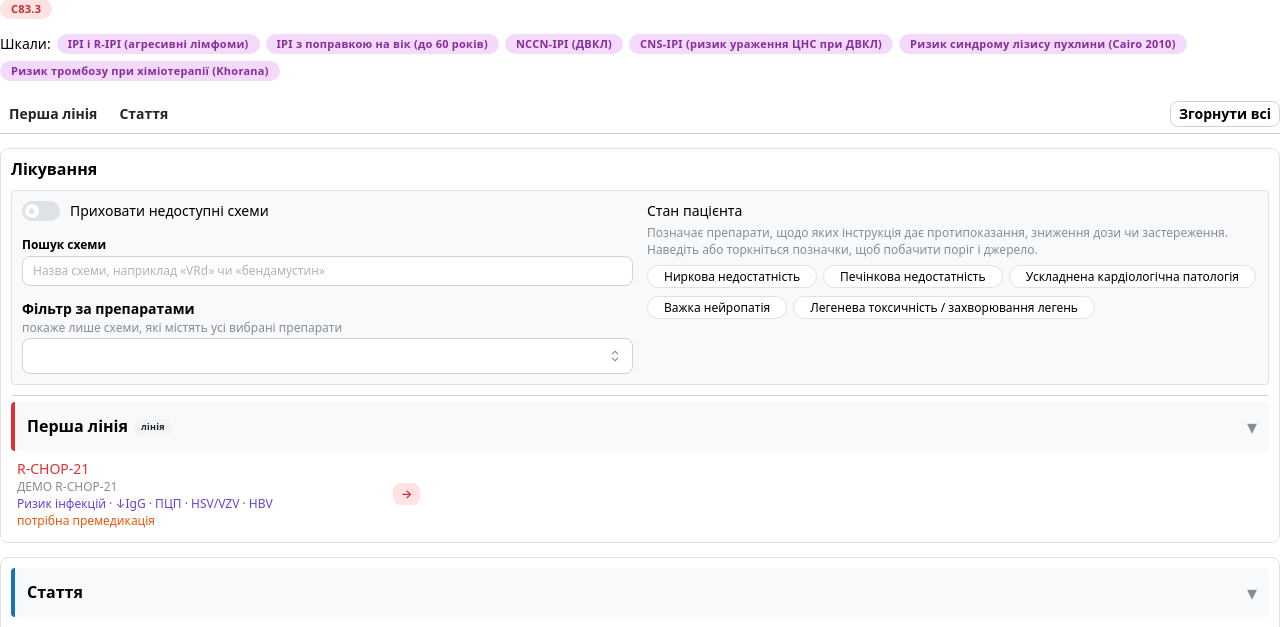
Test: DiseaseDetailPage › folds the article like a line
The image size is (1280, 627).
Click the button "Стаття ▾" at [55, 592], box [11, 568, 1269, 617]
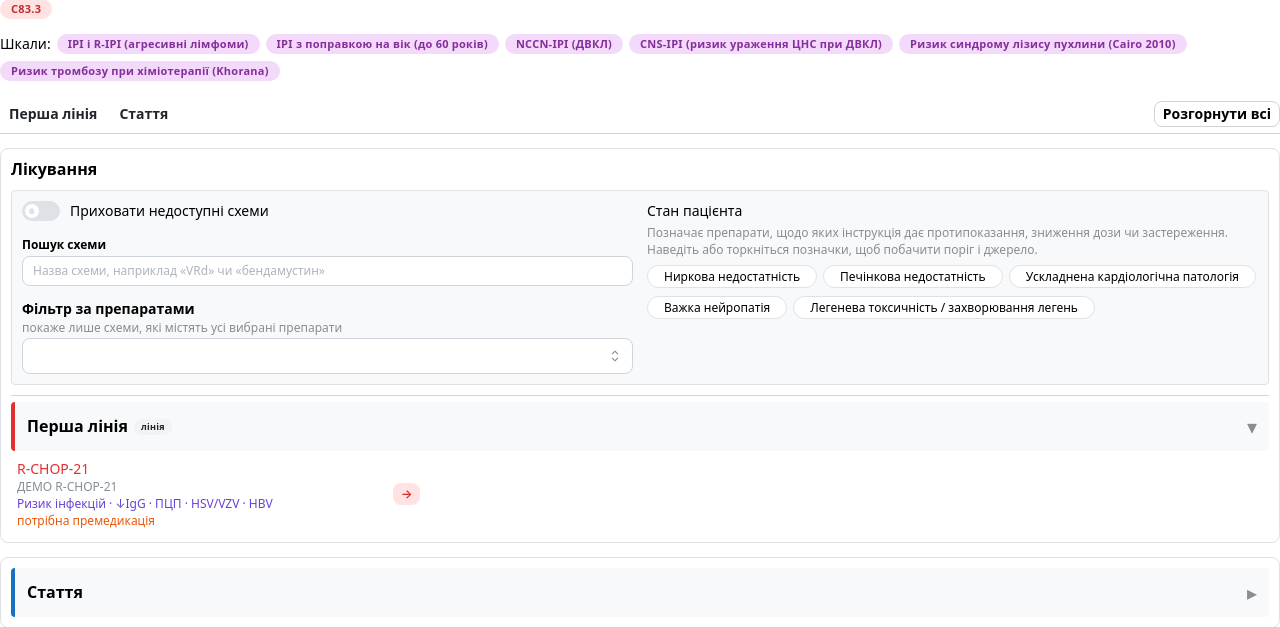
Click the button "Стаття ▸" at [55, 592], box [11, 568, 1269, 617]
(page scrolled)
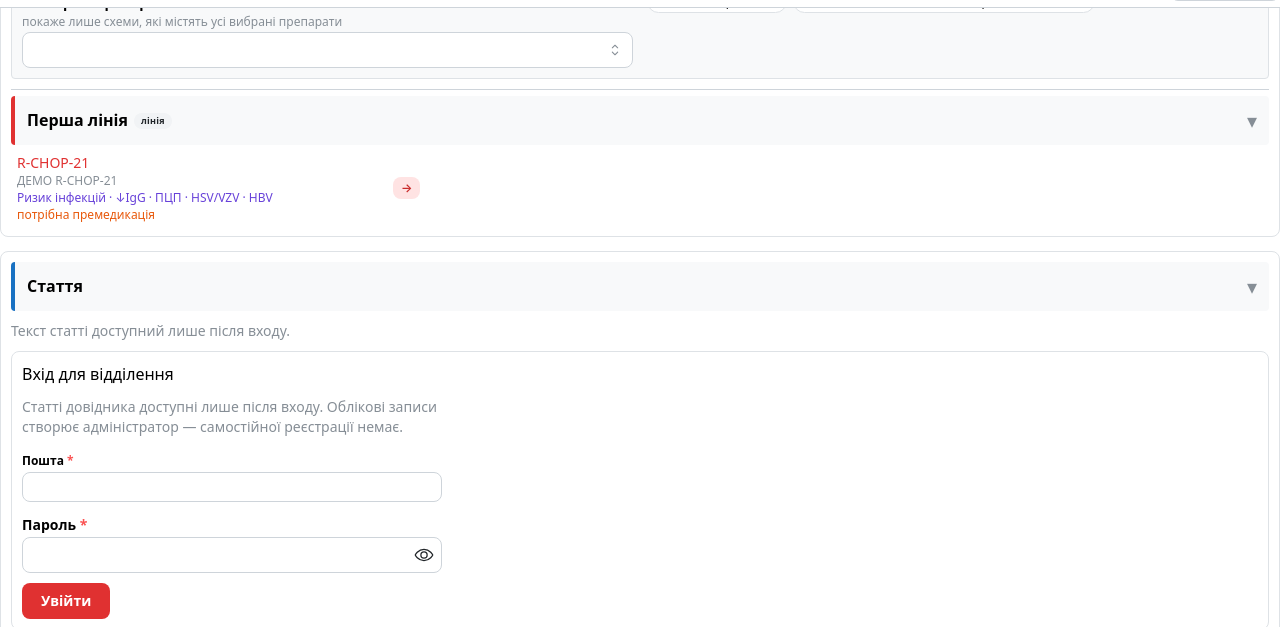
Result: the text "Текст статті доступний лише після входу." is shown at [11, 321, 290, 340]
